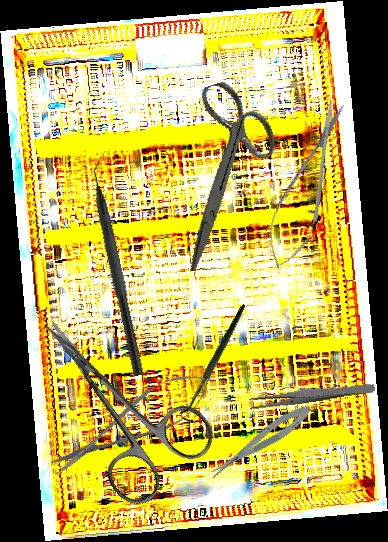Chopper: (82, 150, 160, 377)
Dressing Forceps: (248, 379, 376, 411)
Hook Surgical: (149, 304, 283, 426)
Iris Scissors: (7, 284, 224, 514), (139, 72, 305, 272)
Micro Scissor: (40, 358, 223, 490), (256, 94, 359, 276), (204, 399, 316, 483)
